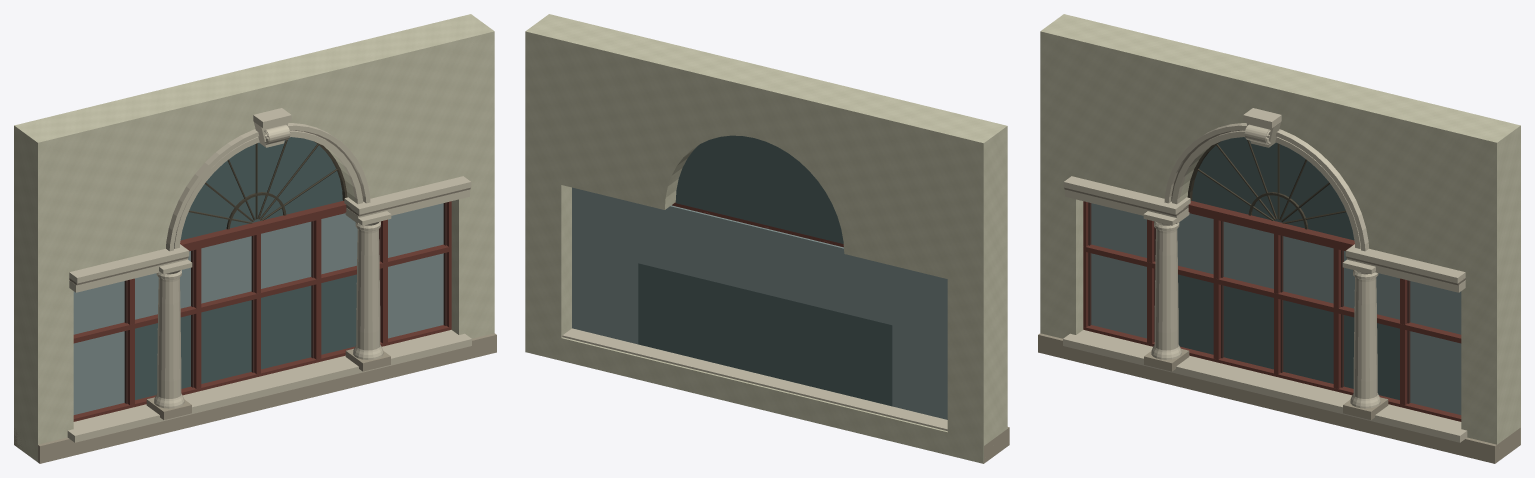
File: xuhui-du-zhongyuan-residence-serlian-window-lod.glb
The picture shows the model from 3 angles, left to right: view 1: azimuth 30°, elevation 25°; view 2: azimuth 150°, elevation 25°; view 3: azimuth 330°, elevation 25°; orthographic projection.
Parts seen in each view (by area): view 1: 杜重远寓所南花园西端帕拉第奥式窗; view 2: 杜重远寓所南花园西端帕拉第奥式窗; view 3: 杜重远寓所南花园西端帕拉第奥式窗.
Boxes of the visible parts, x1=… form: 杜重远寓所南花园西端帕拉第奥式窗: x1=14, y1=14, x2=496, y2=463; 杜重远寓所南花园西端帕拉第奥式窗: x1=525, y1=14, x2=1009, y2=463; 杜重远寓所南花园西端帕拉第奥式窗: x1=1038, y1=14, x2=1520, y2=463.
Size of the model in its own units: 5.67 by 3.79 by 0.7978.
9 materials, 1 textured.
